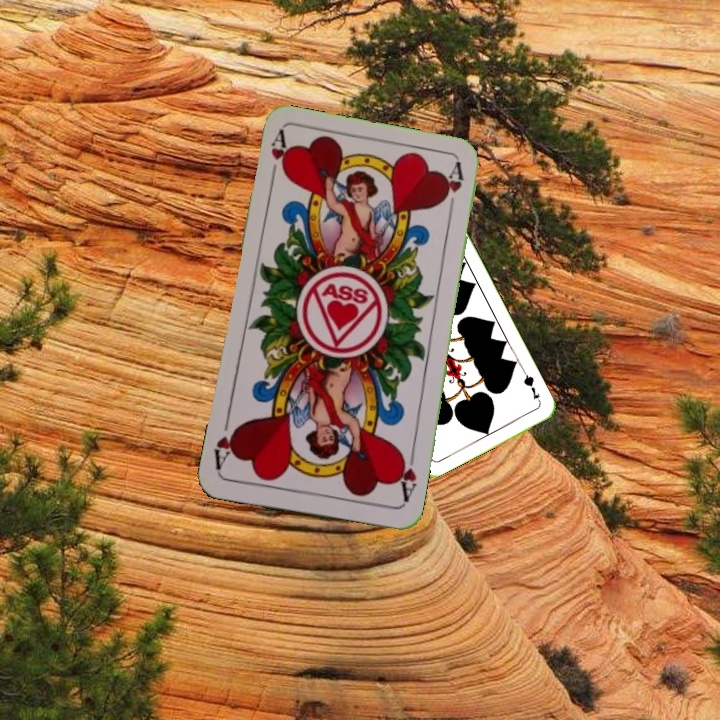G7: (519, 368, 542, 402)
HA: (266, 128, 294, 187), (392, 448, 419, 507)
